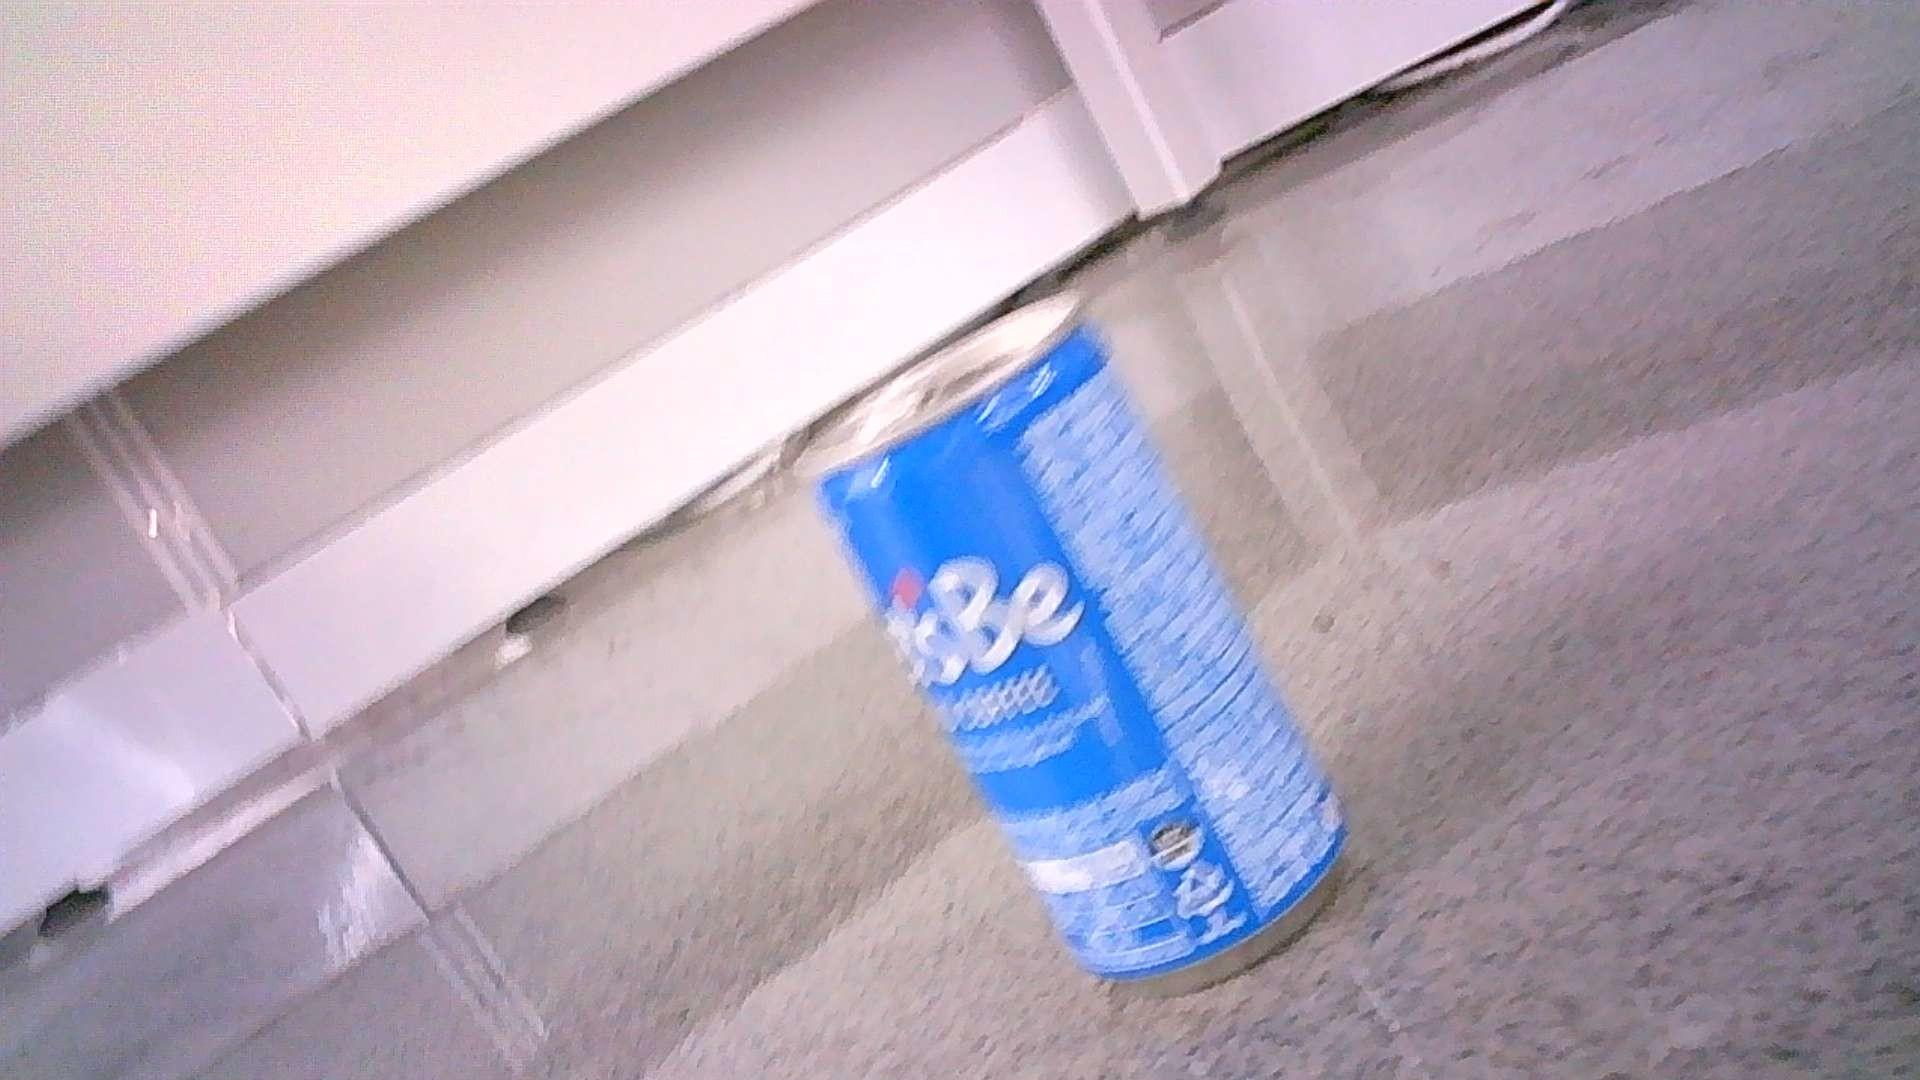letsbe: (796, 293, 1345, 998)
